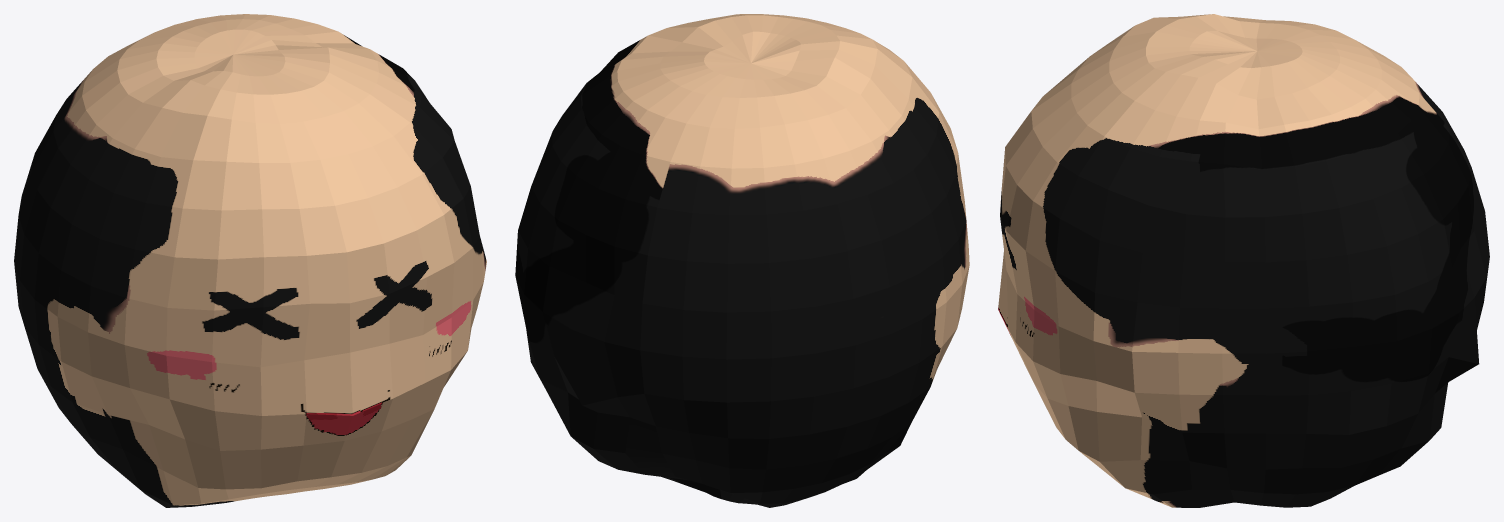
Rendered from player.obj.
The picture shows the model from 3 angles, left to right: view 1: azimuth 30°, elevation 25°; view 2: azimuth 150°, elevation 25°; view 3: azimuth 270°, elevation 25°; orthographic projection. The views are drawn at different scales.
Parts seen in each view (by area): view 1: 球; view 2: 球; view 3: 球.
Part boxes in pixels (x1,y1,x2,y2): 球: (14, 14, 486, 507); 球: (515, 14, 969, 507); 球: (998, 14, 1489, 507).
Size of the model in its own units: 0.9199 by 1.03 by 1.03.
Materials: 1 (1 with a texture image).
